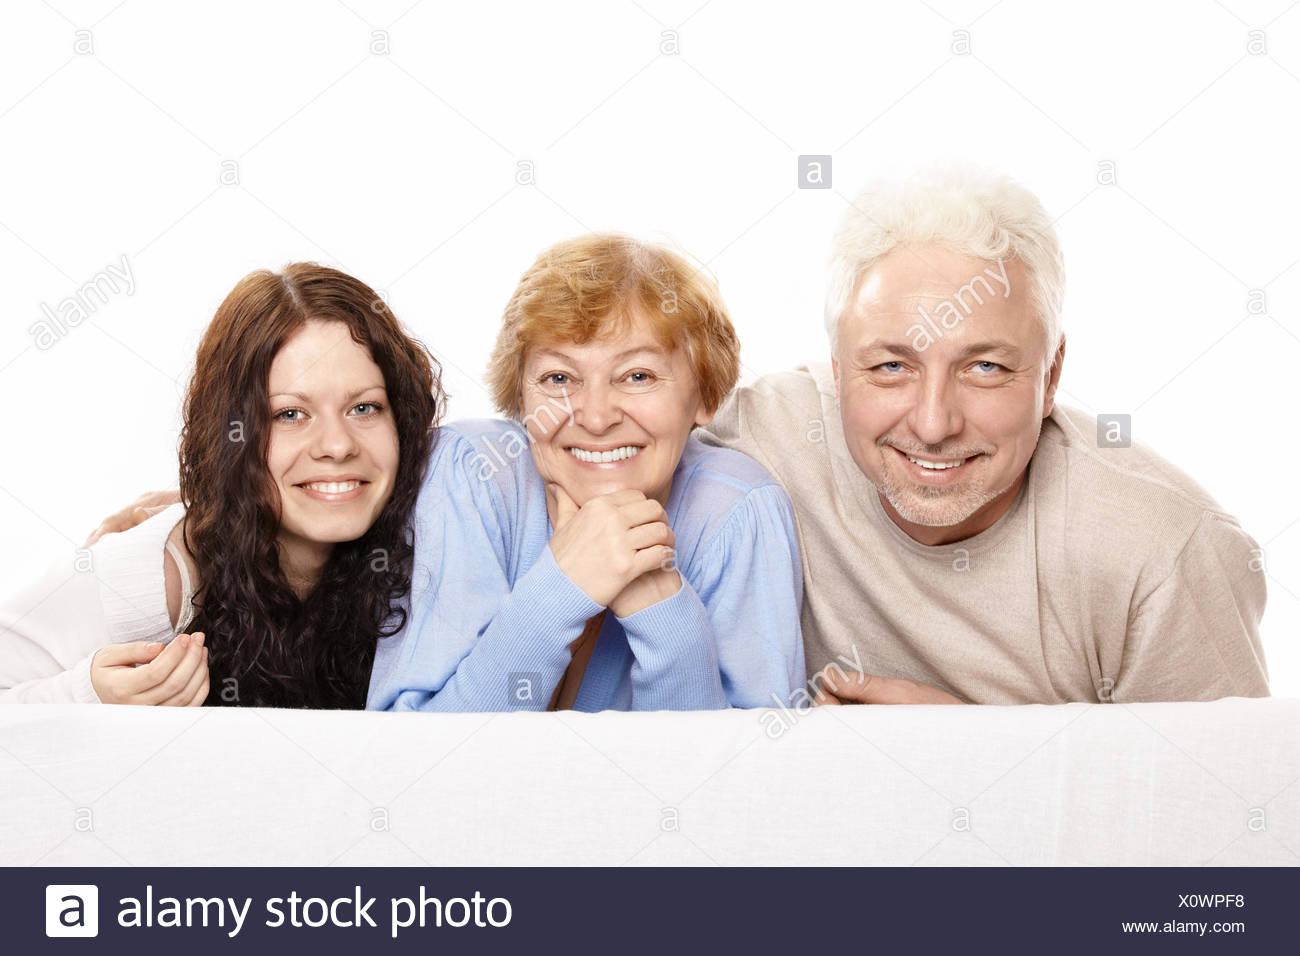no_mask: (822, 192, 1076, 552), (192, 257, 409, 590), (487, 235, 735, 512)
